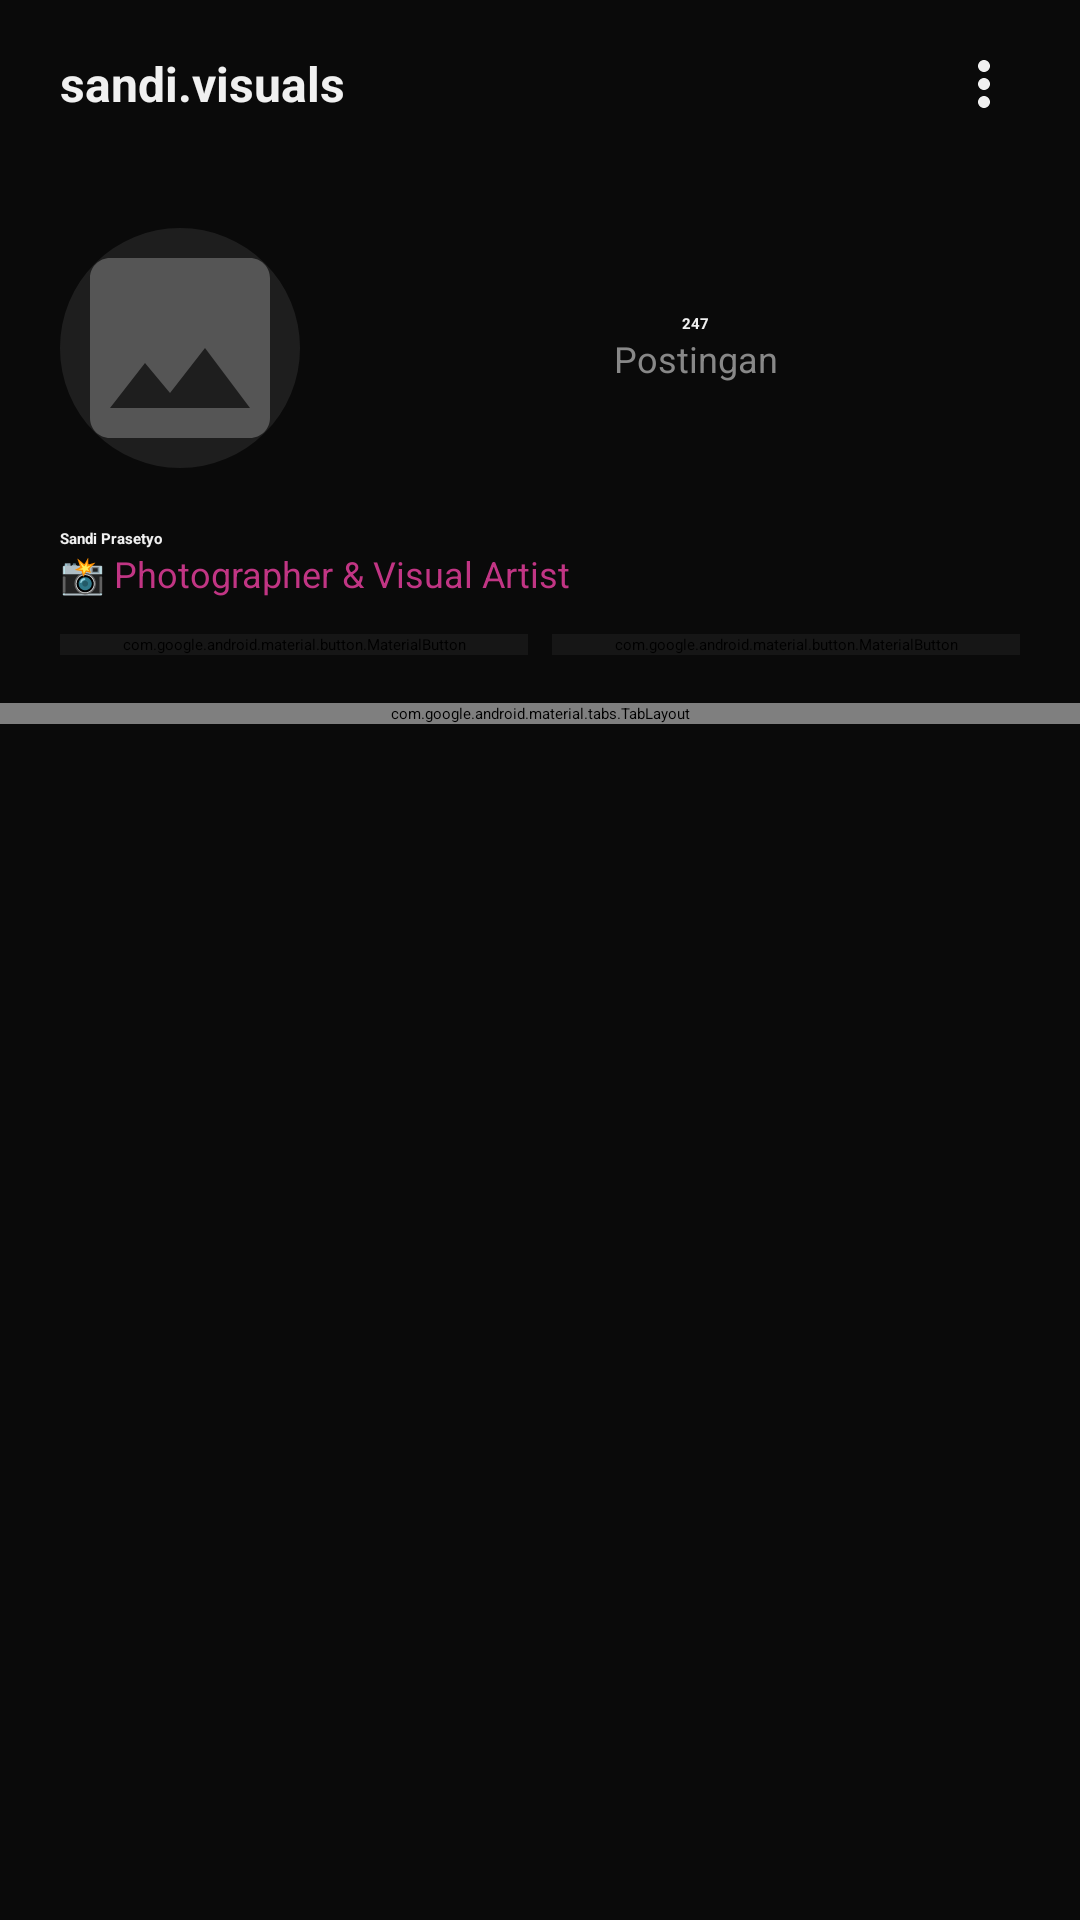

Where icons sit on this 1080*1920 app screen, as (x1, y1, x2, y2):
menu: (978, 60, 990, 108)
